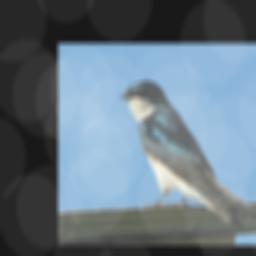Swallow: (118, 79, 256, 230)
